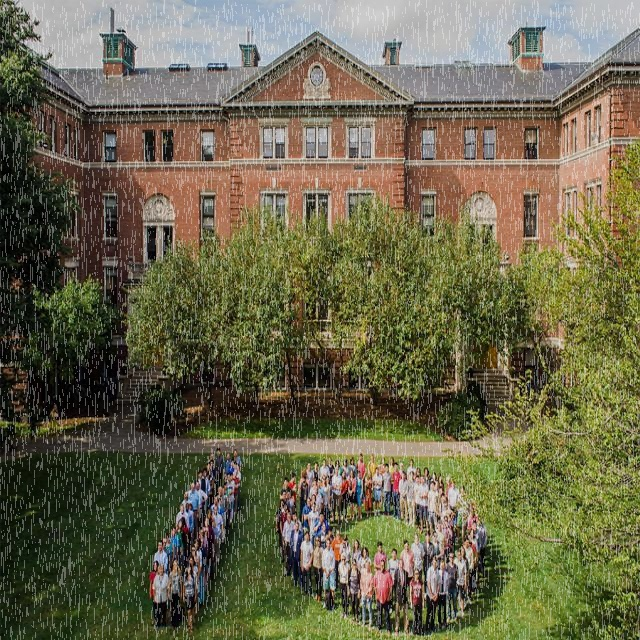pessoa: (187, 466, 242, 538), (372, 558, 394, 639), (392, 557, 410, 637), (424, 554, 441, 636), (442, 550, 460, 626), (320, 536, 338, 610), (152, 561, 170, 633), (298, 528, 316, 598), (398, 538, 415, 612), (447, 498, 484, 532), (288, 519, 304, 591), (358, 558, 374, 630), (452, 546, 467, 621), (408, 567, 424, 636), (182, 560, 196, 635), (346, 557, 362, 622), (168, 556, 182, 630), (420, 529, 434, 600), (437, 558, 450, 632), (337, 549, 350, 621), (209, 504, 224, 564), (386, 547, 399, 616), (201, 515, 215, 579), (312, 533, 324, 605), (282, 511, 296, 572), (330, 526, 343, 591), (409, 531, 426, 580), (187, 481, 201, 538), (148, 559, 160, 624), (416, 474, 429, 534), (188, 554, 199, 624), (279, 502, 291, 566), (462, 536, 474, 600), (194, 481, 209, 532), (330, 466, 343, 524), (466, 531, 478, 593), (391, 460, 403, 520), (458, 546, 469, 610), (193, 468, 207, 518), (380, 460, 392, 518), (274, 498, 286, 555), (426, 480, 438, 537), (441, 514, 454, 565), (455, 484, 468, 534), (406, 470, 417, 528), (298, 472, 310, 525), (398, 470, 410, 522), (434, 518, 448, 562), (346, 467, 357, 523), (469, 527, 478, 594), (162, 532, 176, 575), (216, 486, 228, 536), (308, 500, 320, 550), (446, 480, 459, 526), (354, 451, 366, 500), (340, 467, 350, 524), (152, 539, 168, 574), (430, 529, 443, 571), (197, 536, 206, 596), (312, 508, 330, 538), (372, 464, 382, 518), (320, 472, 330, 524), (199, 466, 211, 509), (372, 540, 388, 572), (174, 522, 184, 572), (184, 502, 194, 552), (434, 484, 444, 534), (480, 518, 488, 580), (364, 469, 374, 518), (320, 474, 330, 522), (214, 446, 223, 498), (278, 476, 296, 502), (310, 483, 324, 516), (177, 518, 186, 568), (176, 502, 190, 534), (338, 532, 352, 564), (412, 474, 420, 530), (226, 471, 234, 526), (358, 545, 373, 574), (297, 468, 311, 499), (216, 496, 225, 544), (355, 469, 363, 522), (232, 468, 240, 520), (378, 456, 386, 506), (388, 456, 396, 506), (234, 462, 242, 510), (350, 538, 362, 570), (170, 524, 180, 562), (288, 470, 298, 508), (180, 515, 188, 562), (162, 536, 170, 580), (316, 478, 325, 516), (302, 496, 313, 527), (222, 452, 232, 486), (285, 488, 295, 522), (187, 544, 200, 569), (193, 536, 203, 568), (230, 446, 242, 472), (292, 508, 304, 534), (309, 460, 321, 486), (366, 452, 378, 478), (405, 456, 417, 482), (188, 502, 195, 545), (317, 520, 327, 550), (471, 520, 480, 552), (438, 492, 447, 524), (204, 508, 217, 530), (318, 458, 331, 480), (308, 474, 318, 502), (341, 458, 352, 483), (209, 459, 216, 497), (433, 471, 445, 493), (305, 460, 315, 486), (181, 488, 193, 509), (210, 494, 222, 514), (440, 501, 450, 525), (422, 466, 431, 491), (326, 454, 336, 476), (444, 474, 452, 500), (348, 455, 357, 478), (310, 492, 318, 514), (280, 488, 287, 512), (206, 451, 217, 466), (413, 465, 422, 483), (328, 524, 336, 544), (430, 470, 438, 490), (228, 456, 236, 474), (334, 458, 342, 476), (198, 528, 205, 545), (204, 461, 212, 474), (397, 460, 404, 474), (204, 528, 208, 537)
